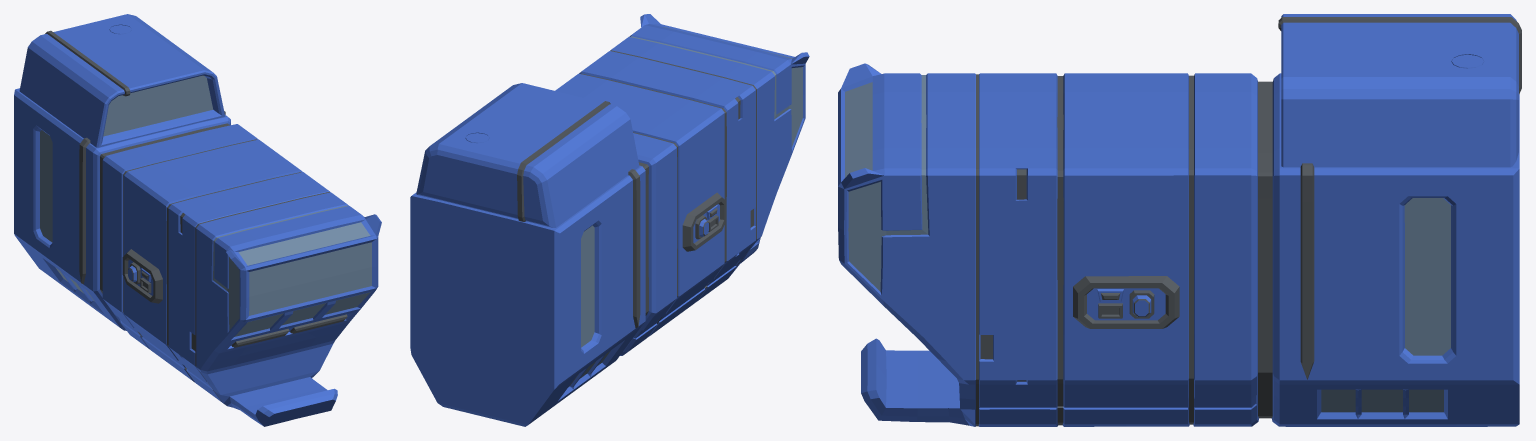
The model's file is Dropship_02_Body_Blue.fbx.
3 views of the same model, side by side, from view 1: azimuth 30°, elevation 25°; view 2: azimuth 150°, elevation 25°; view 3: azimuth 270°, elevation 25° (orthographic). The views are drawn at different scales.
Parts seen in each view (by area): view 1: Dropship_02_Body_Blue; view 2: Dropship_02_Body_Blue; view 3: Dropship_02_Body_Blue.
Part boxes in pixels (x1=…): Dropship_02_Body_Blue: x1=14, y1=14, x2=381, y2=426; Dropship_02_Body_Blue: x1=410, y1=14, x2=809, y2=426; Dropship_02_Body_Blue: x1=838, y1=14, x2=1521, y2=426.
Size of the model in its own units: 495 by 734 by 1268.
Materials: 3 (3 with a texture image).
